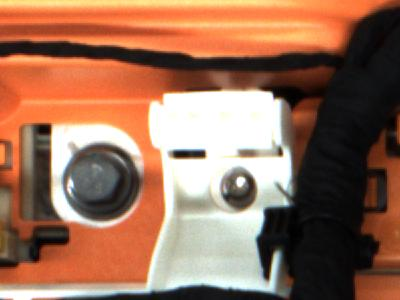nut_b: (58, 137, 142, 224)
